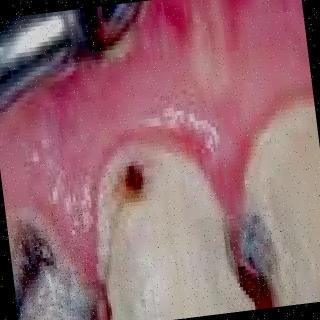Gum Swelling: (144, 41, 288, 208), (6, 89, 139, 263)
calculus: (53, 156, 159, 287)
cavities: (201, 209, 306, 296), (1, 217, 80, 320), (100, 146, 174, 253)
plaque: (236, 128, 290, 262)
